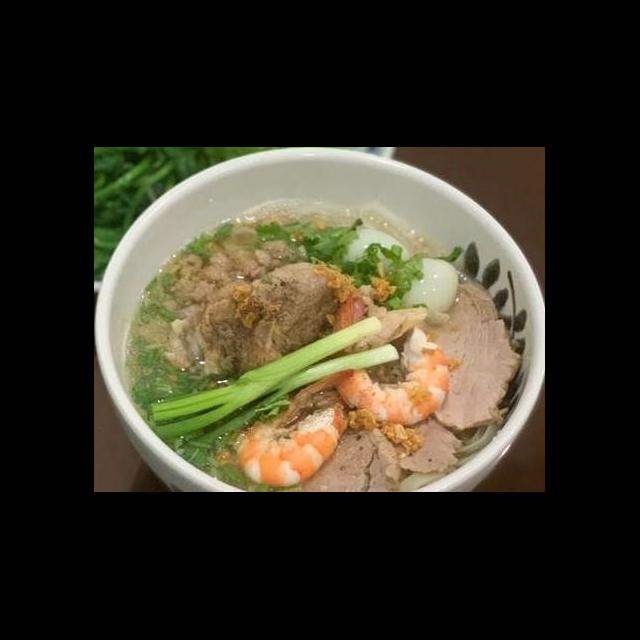thit bam: (160, 233, 292, 306)
thit heo: (195, 257, 352, 388), (396, 278, 526, 434), (292, 422, 404, 492), (382, 410, 468, 480)
tom: (326, 290, 456, 432), (232, 366, 358, 488)
trung: (332, 226, 416, 288), (390, 253, 460, 320)
